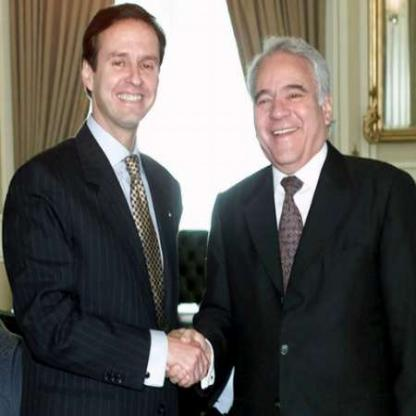face: (250, 43, 325, 168), (93, 7, 163, 129)
